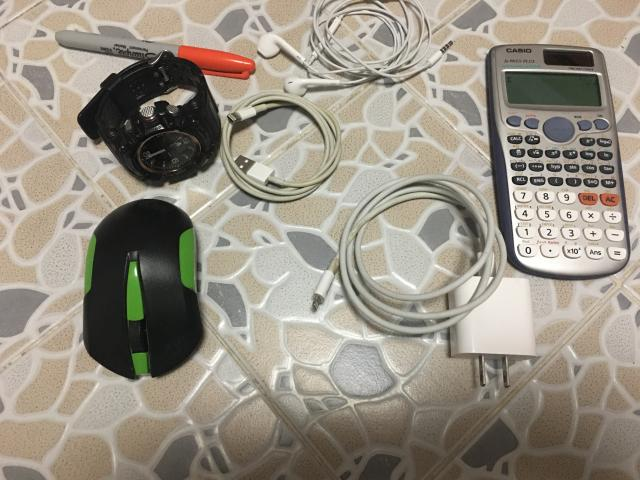Mouse: (84, 199, 202, 379)
Pen: (55, 30, 255, 79)
Watch: (78, 51, 221, 181)
wire: (312, 175, 536, 388), (258, 0, 450, 96), (220, 91, 341, 201)
